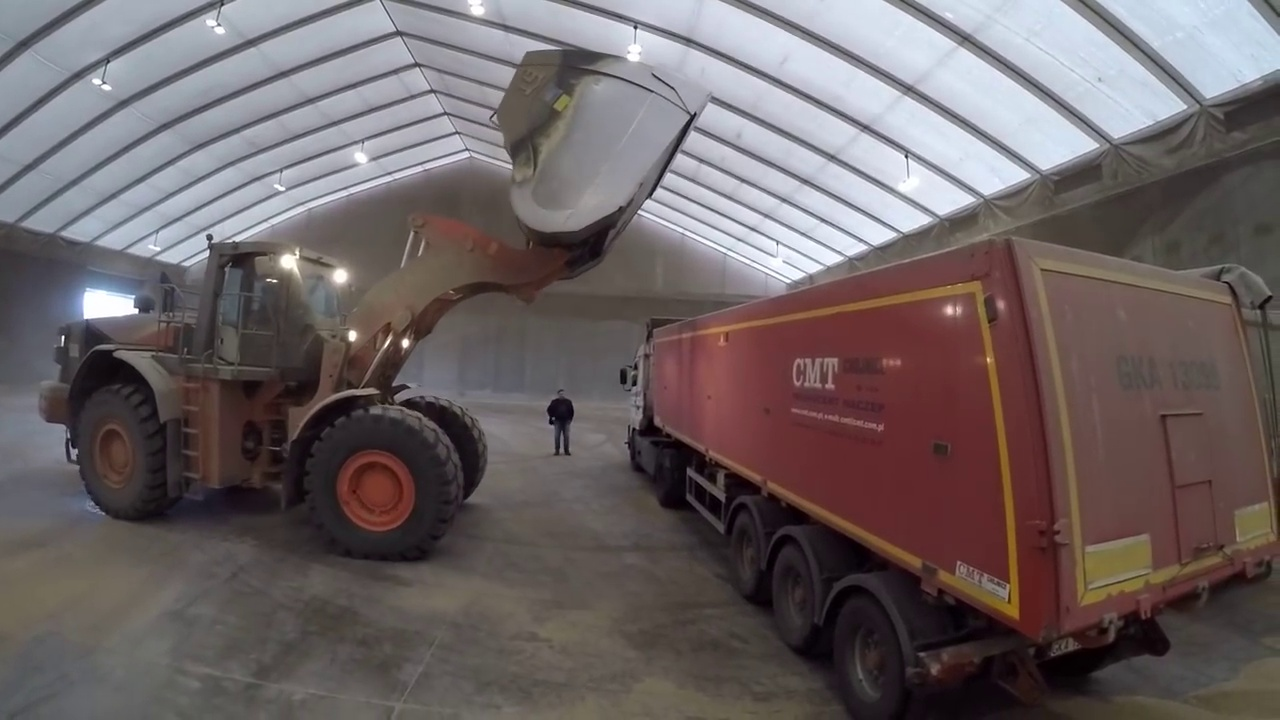person: (547, 388, 577, 456)
truck: (630, 237, 1277, 711)
wheel loader: (38, 46, 715, 561)
